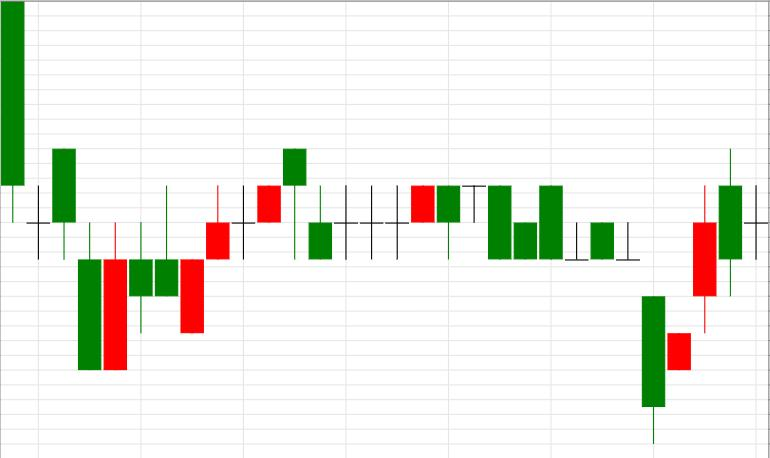hanging_man_fall: (181, 149, 305, 333)
